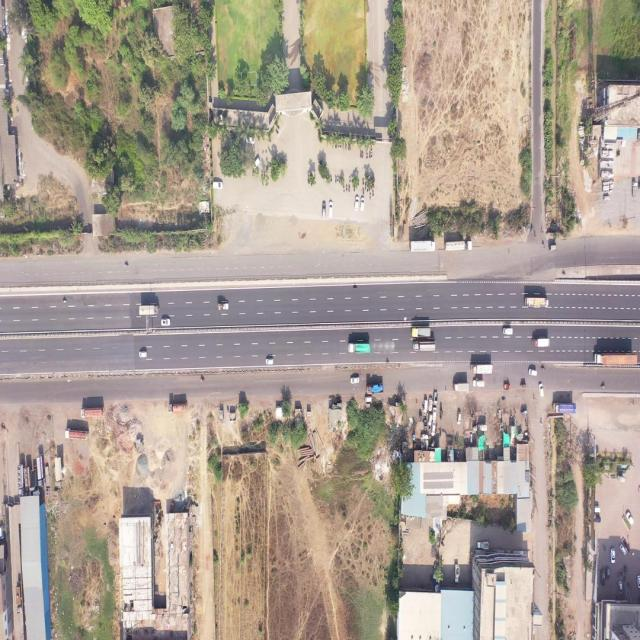3W: (520, 407, 530, 417), (548, 244, 557, 252), (504, 382, 511, 391), (520, 383, 528, 389)
Cars: (625, 509, 634, 528), (245, 134, 256, 146), (619, 542, 627, 558), (212, 180, 224, 190), (609, 547, 616, 564), (600, 571, 606, 588), (528, 367, 538, 377), (253, 155, 260, 169), (322, 201, 327, 219), (329, 200, 334, 218), (503, 327, 513, 336), (538, 381, 544, 396), (161, 318, 171, 327), (354, 194, 359, 210), (360, 196, 365, 212), (456, 410, 461, 426), (618, 580, 623, 596), (350, 376, 360, 384), (138, 351, 148, 358), (433, 407, 437, 423), (428, 396, 432, 412), (423, 398, 427, 412), (266, 357, 273, 365), (428, 414, 432, 426)
LCV: (454, 564, 461, 587), (476, 539, 490, 550), (217, 301, 230, 311), (472, 379, 486, 388)
M2W: (348, 174, 352, 183), (530, 226, 534, 234), (541, 366, 545, 374), (369, 191, 372, 201), (385, 359, 390, 365), (601, 383, 606, 389), (200, 377, 205, 383), (123, 263, 129, 268), (353, 285, 358, 291), (338, 174, 341, 183), (348, 185, 351, 193), (542, 242, 545, 250), (345, 143, 348, 150), (346, 183, 348, 193), (362, 176, 364, 186), (362, 149, 364, 159), (62, 299, 67, 303), (334, 174, 336, 183), (371, 150, 373, 159), (330, 174, 332, 183), (263, 169, 265, 178), (340, 142, 342, 150), (366, 152, 368, 160), (344, 186, 346, 193)
MAV: (593, 351, 638, 367), (444, 238, 474, 251), (524, 295, 550, 307)
Truck: (64, 426, 89, 442), (552, 401, 577, 414), (410, 240, 436, 252), (469, 362, 493, 375), (348, 341, 370, 355), (412, 340, 437, 352), (80, 407, 104, 419), (139, 304, 160, 316), (167, 402, 187, 414), (411, 326, 431, 338), (530, 336, 550, 348), (365, 382, 385, 394), (452, 381, 469, 392)
